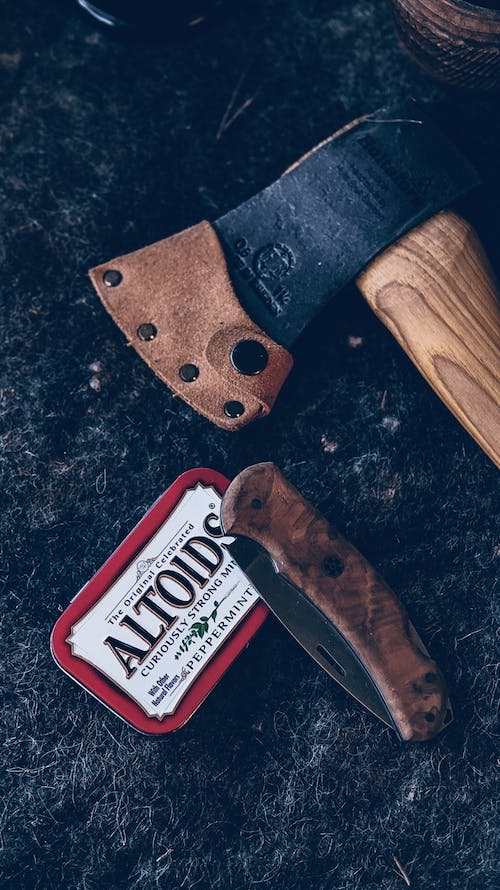knife: (217, 458, 457, 744)
